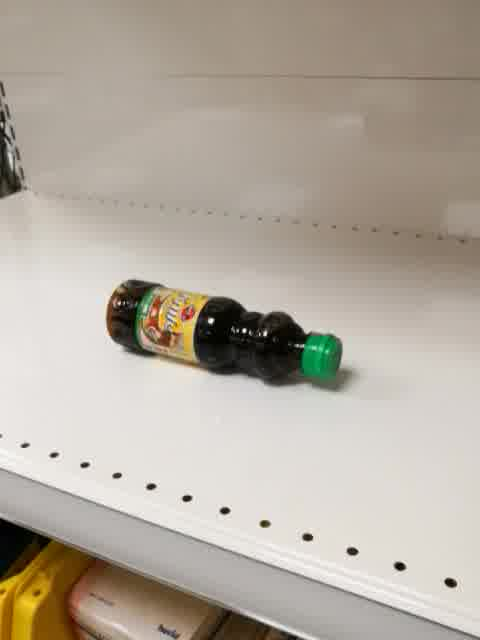cookingoil: (103, 277, 345, 388)
